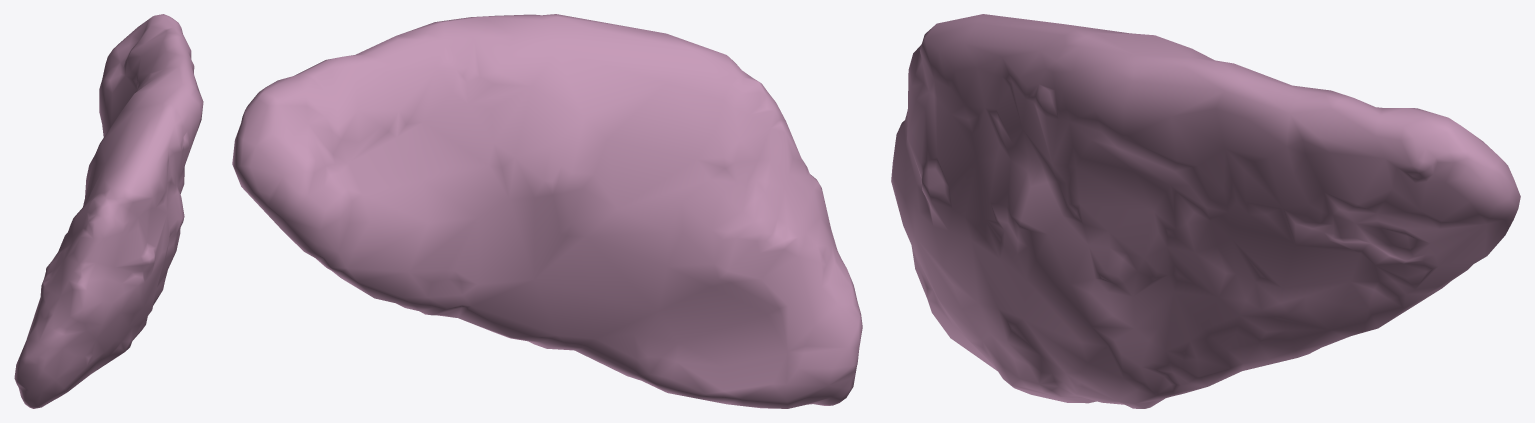
3 views of the same model, side by side, from view 1: azimuth 30°, elevation 25°; view 2: azimuth 150°, elevation 25°; view 3: azimuth 270°, elevation 25° (orthographic). The views are drawn at different scales.
Visible parts, largest first — view 1: 左侧泪腺; view 2: 左侧泪腺; view 3: 左侧泪腺.
Boxes of the visible parts, left/top/right/bottom form: 左侧泪腺: left=14, top=14, right=203, bottom=408; 左侧泪腺: left=232, top=14, right=862, bottom=408; 左侧泪腺: left=891, top=14, right=1520, bottom=408.
Bounding box in the file's own units: 0.0265 × 0.0222 × 0.0271.
